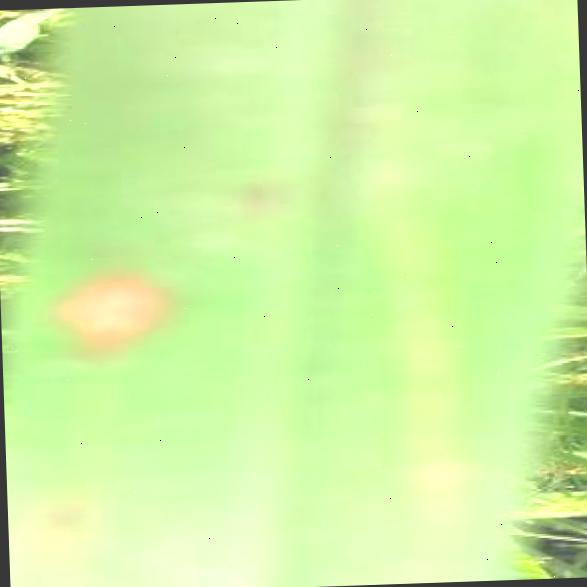Leaf_smut: (36, 237, 189, 408)
